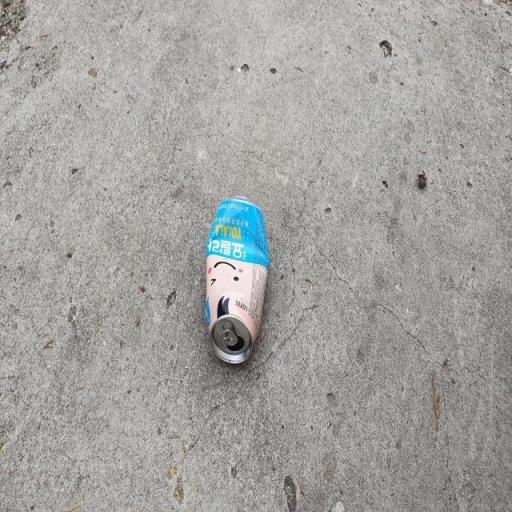metal: (190, 182, 276, 378)
